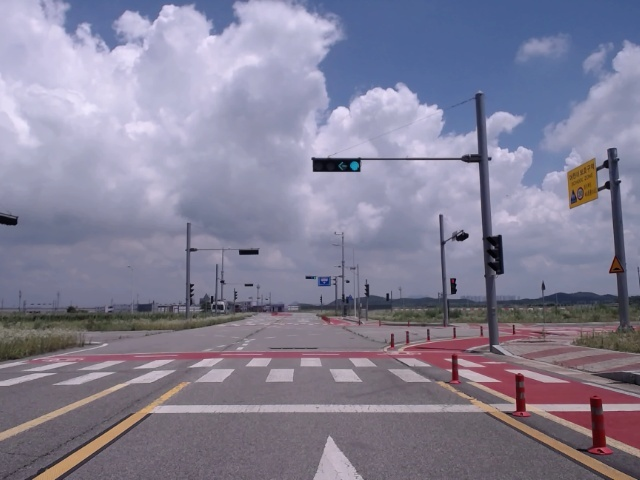all_green_4: (312, 159, 363, 172)
